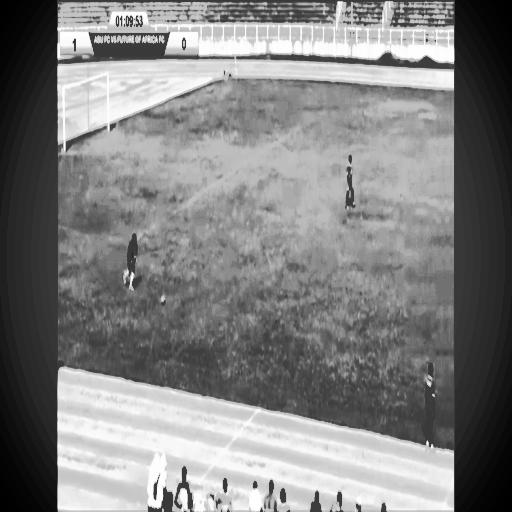ball: (159, 284, 167, 312)
keeper2: (125, 218, 139, 302)
referee: (421, 344, 439, 455)
team2: (346, 149, 356, 208)
